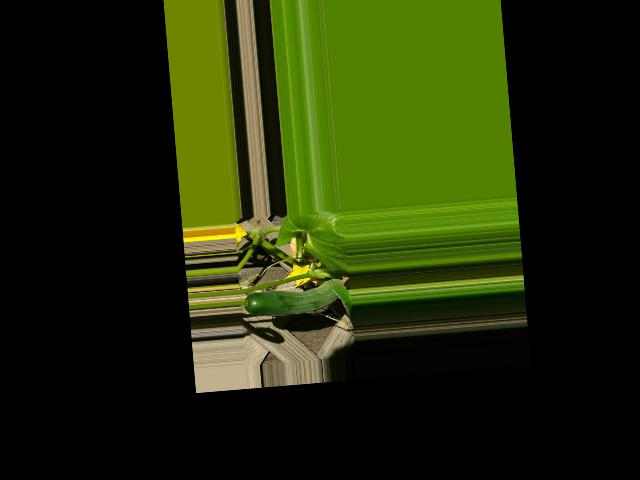cucumber: (244, 277, 352, 319)
